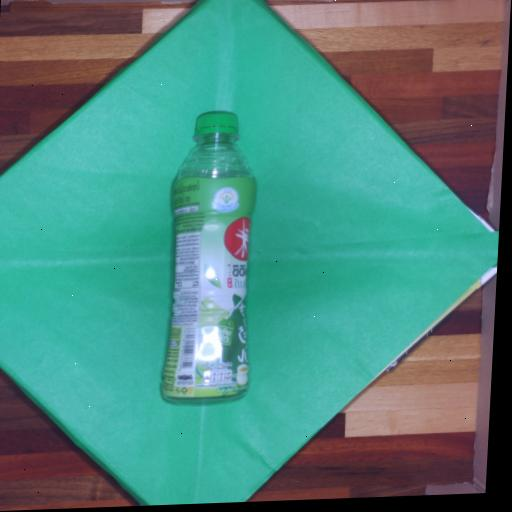bottle: (162, 111, 255, 400)
